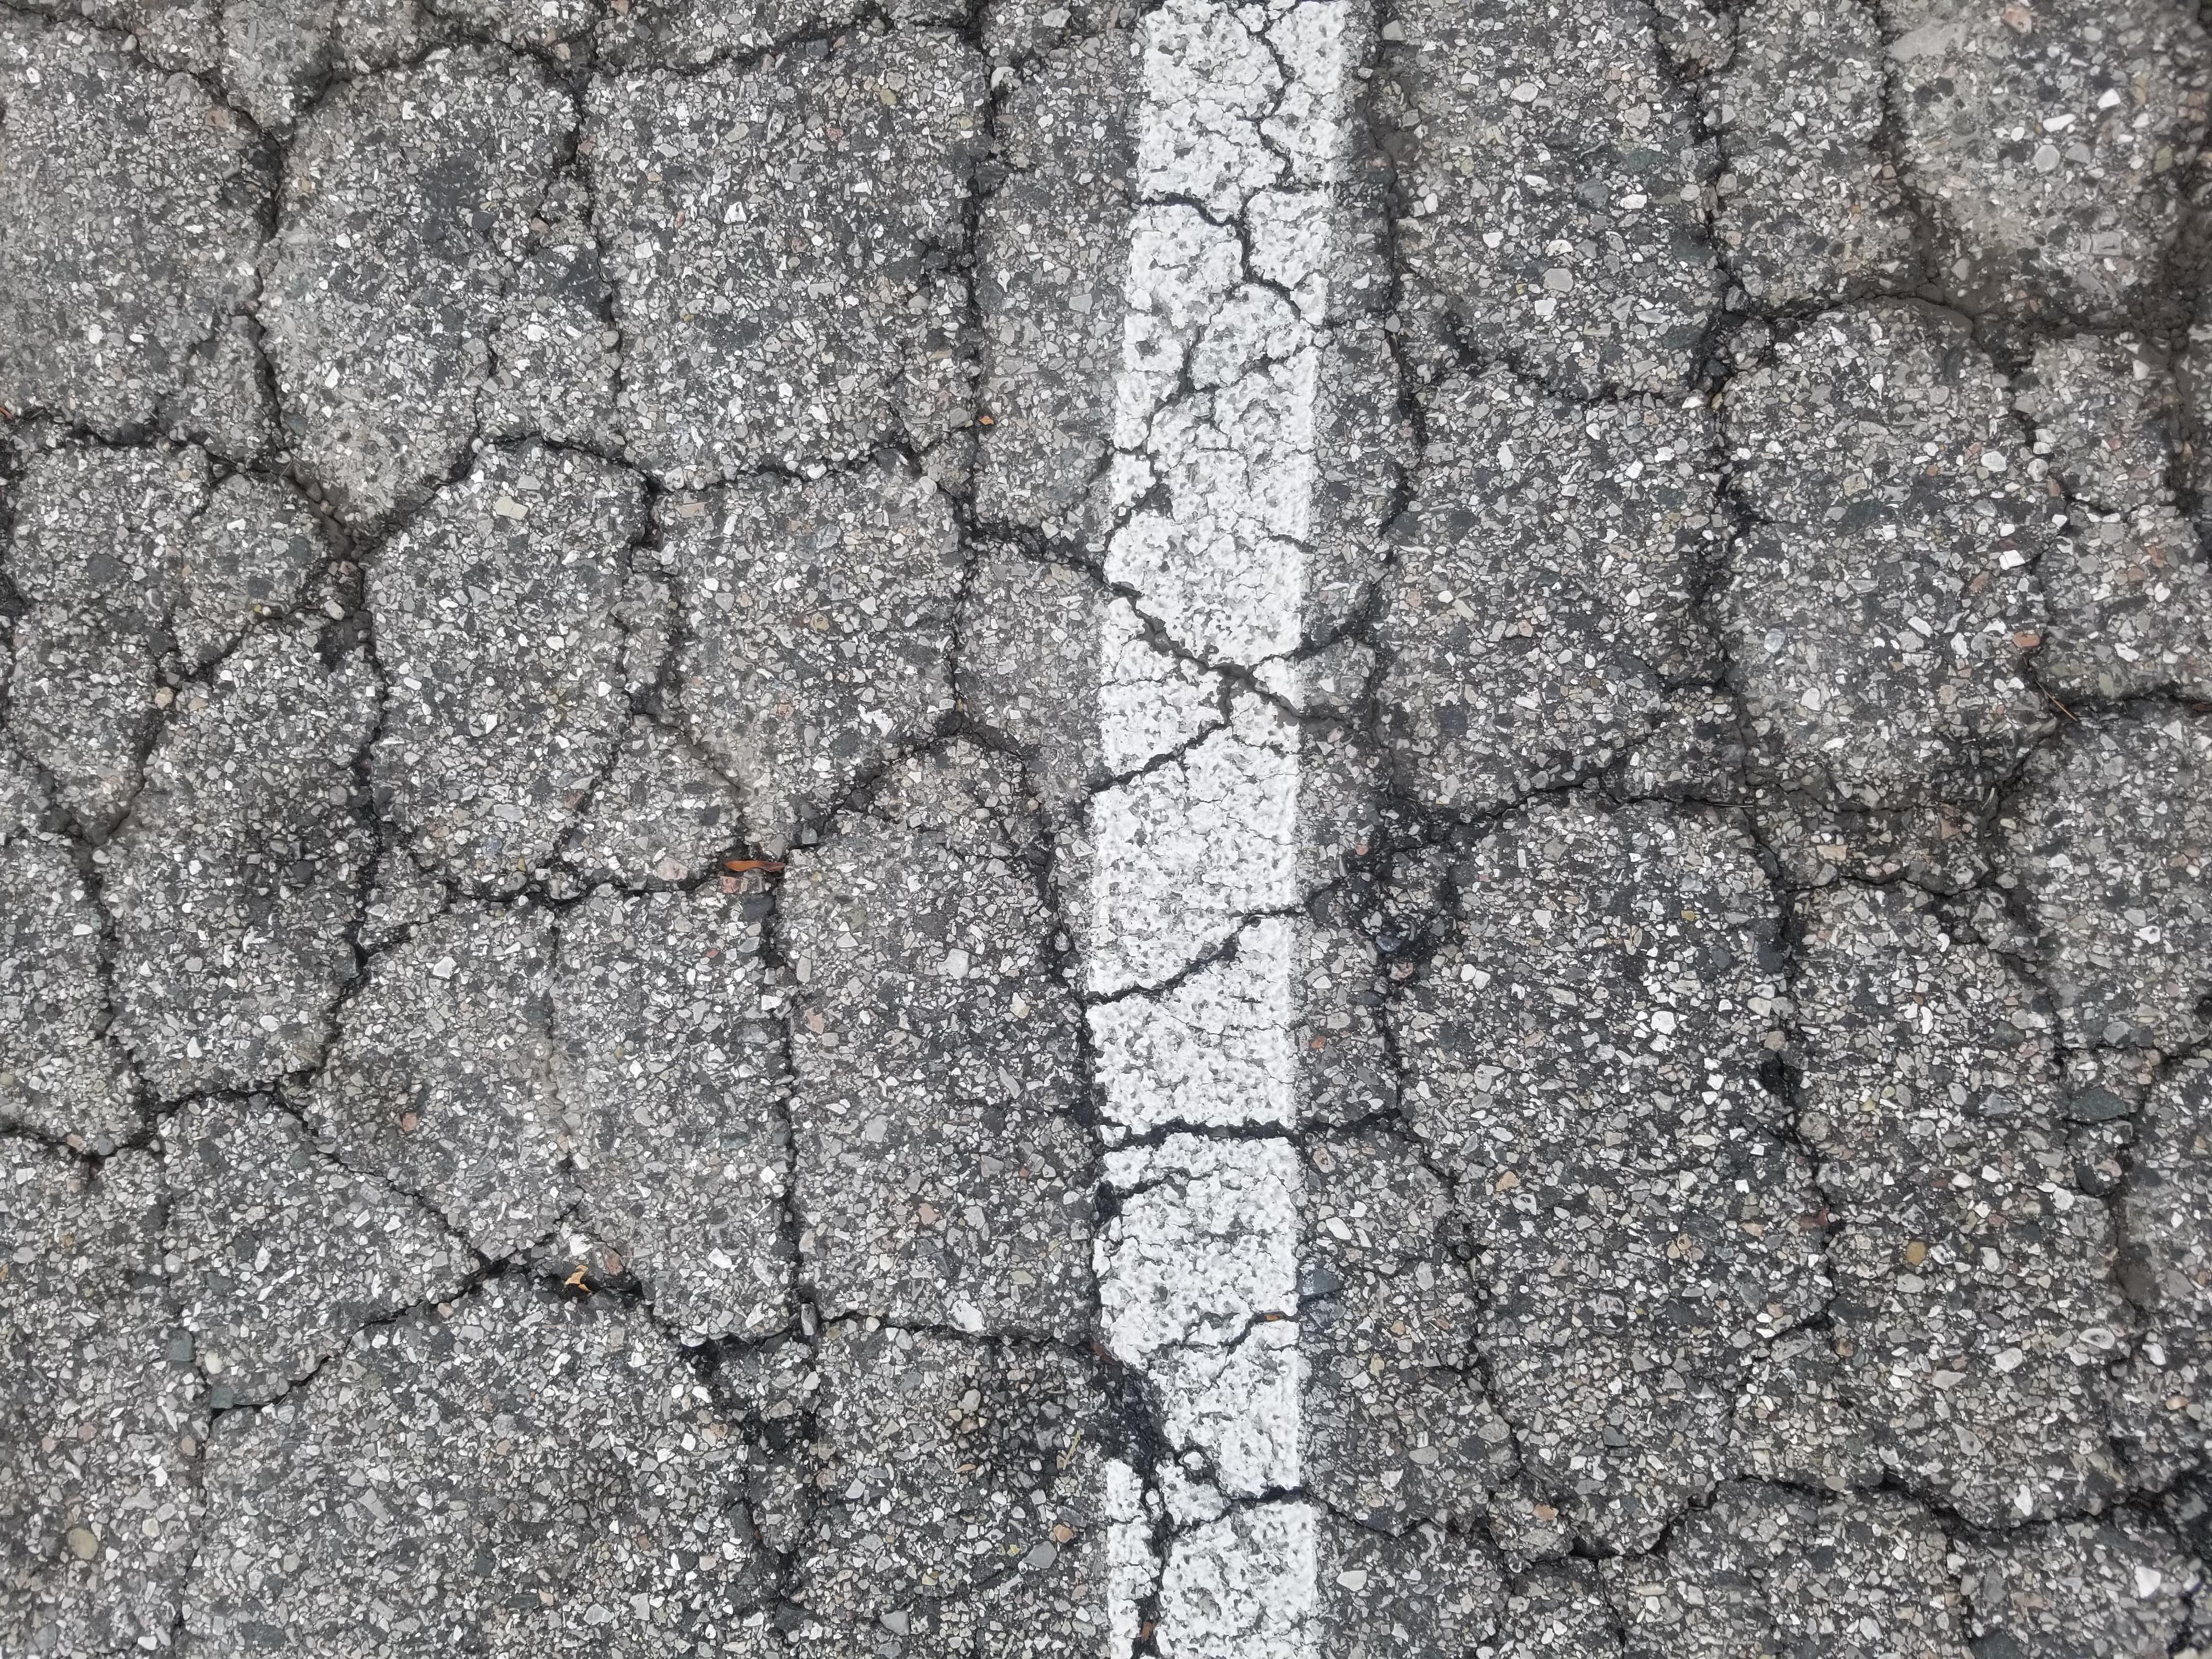alligator-crack: (9, 0, 2212, 1659)
